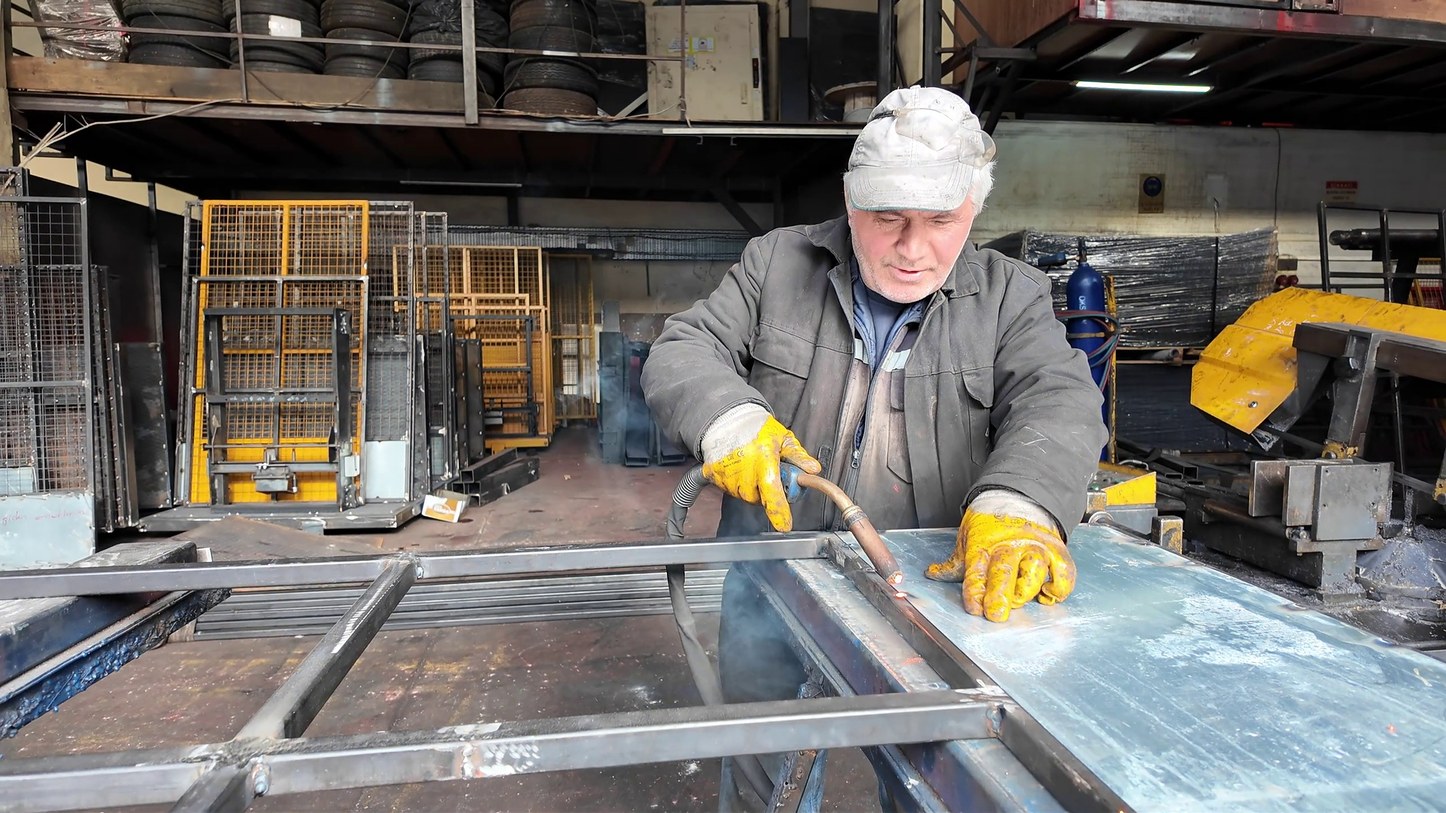person: (638, 82, 1112, 812)
